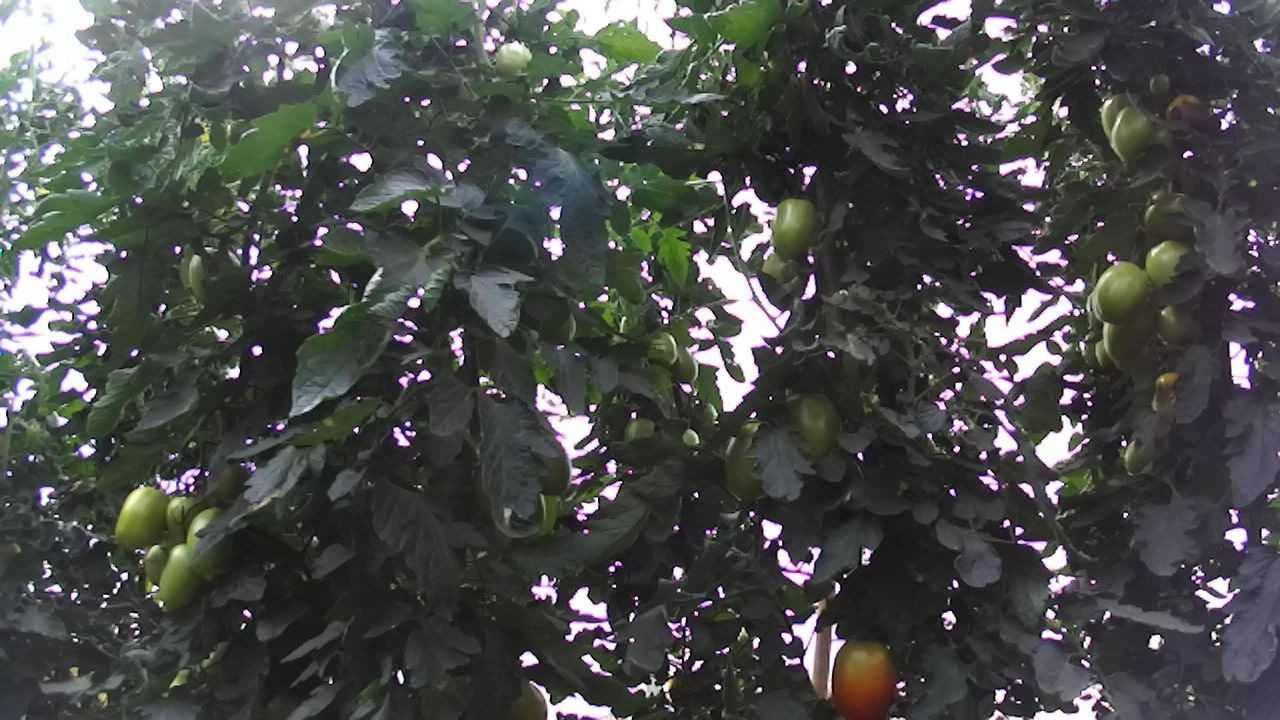tomato: (827, 633, 904, 720), (177, 500, 239, 589), (111, 482, 173, 556), (782, 388, 845, 460), (154, 539, 212, 616), (1090, 258, 1152, 327), (1140, 233, 1194, 298), (770, 195, 817, 266), (1106, 102, 1158, 164), (144, 541, 171, 586), (1144, 71, 1172, 98)
